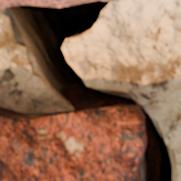brick: (0, 106, 145, 180), (0, 0, 90, 6)
crack: (2, 0, 178, 180)
